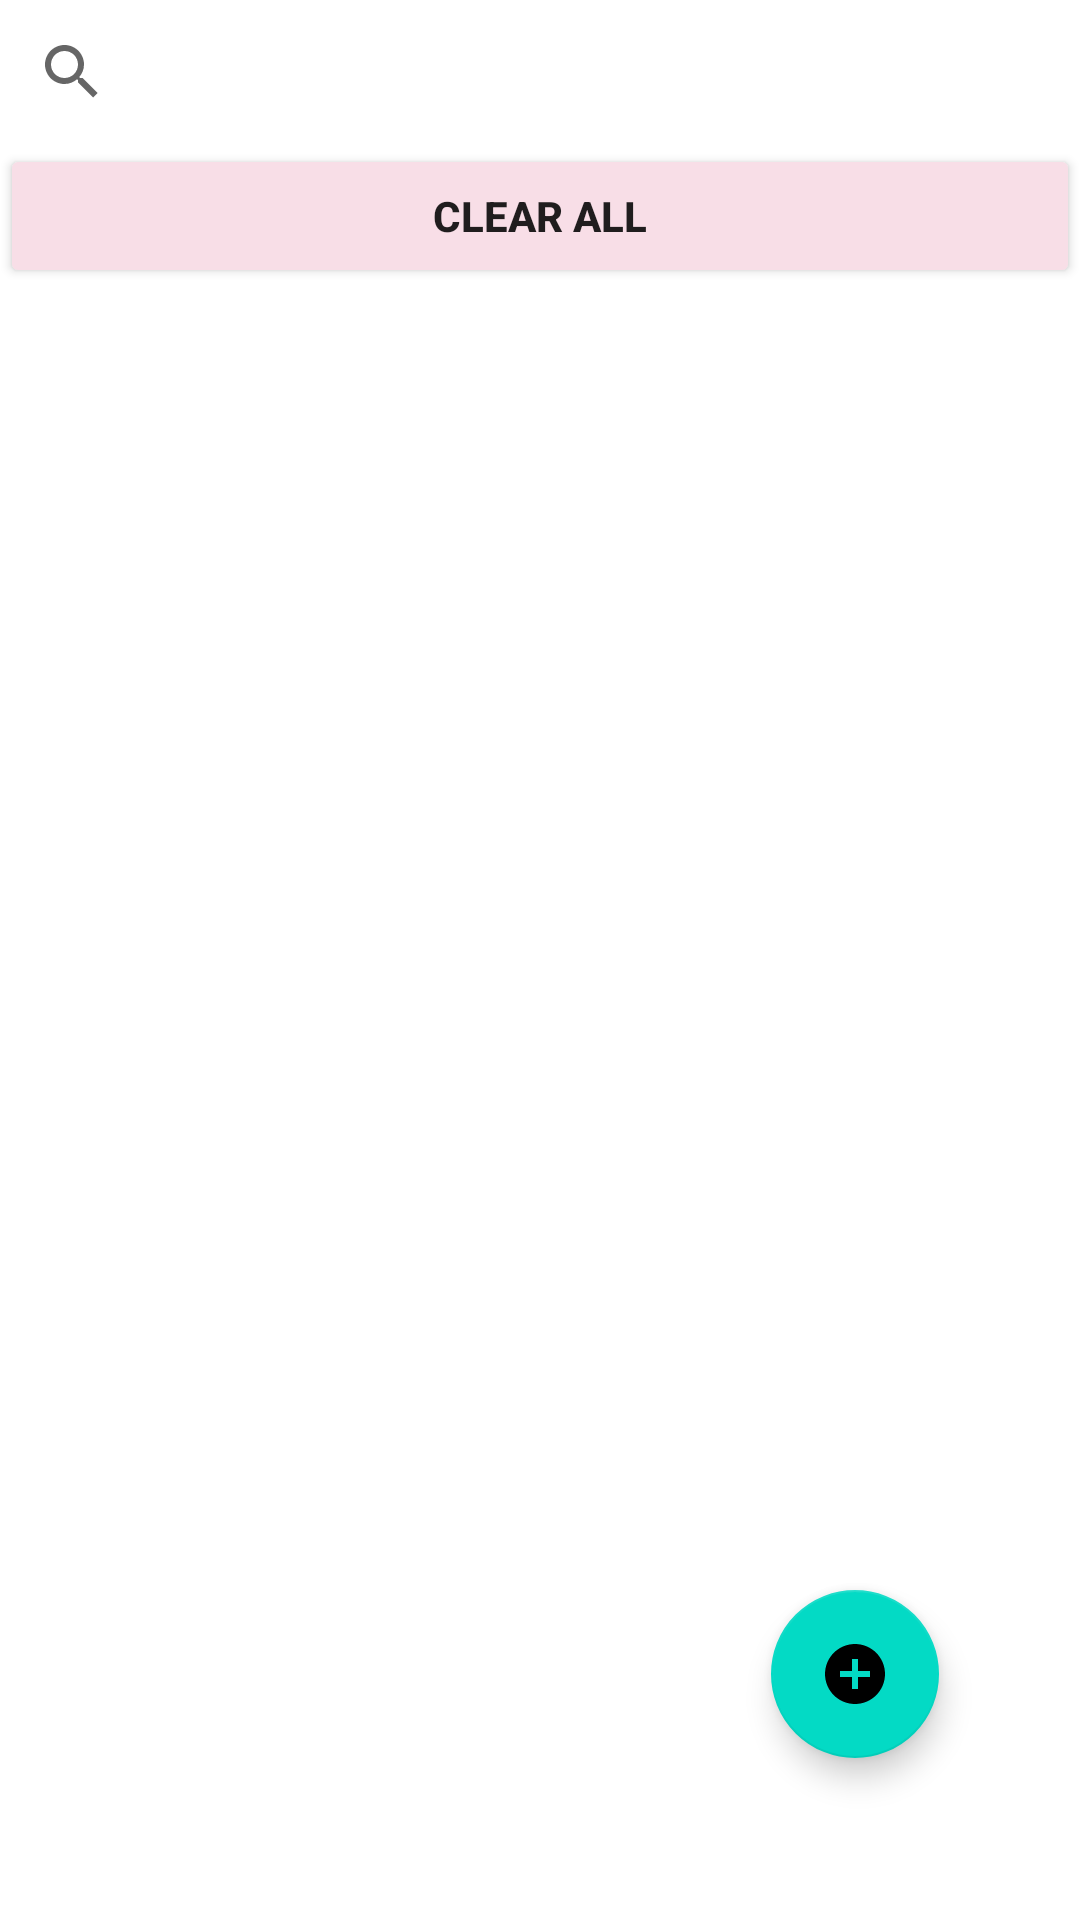

Icon click points for this 1080w x 1920h phone screenshot, format (x,y):
floating action: (855,1674)
